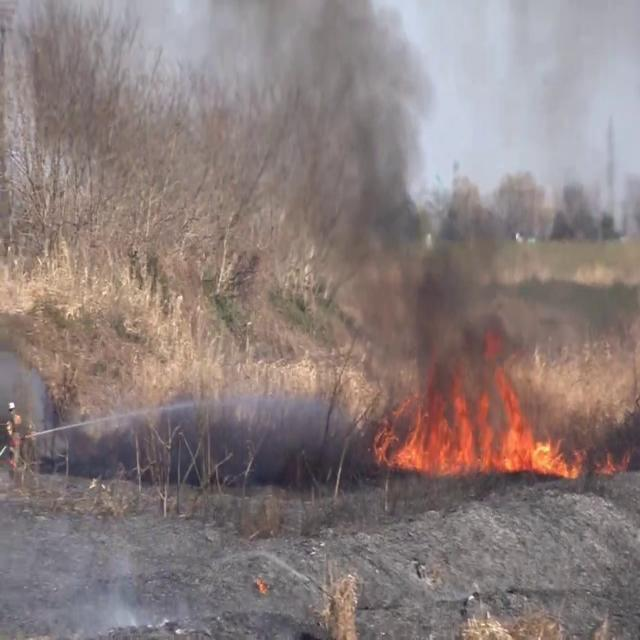Fire: (376, 342, 576, 484)
Smoke: (240, 0, 632, 397)
